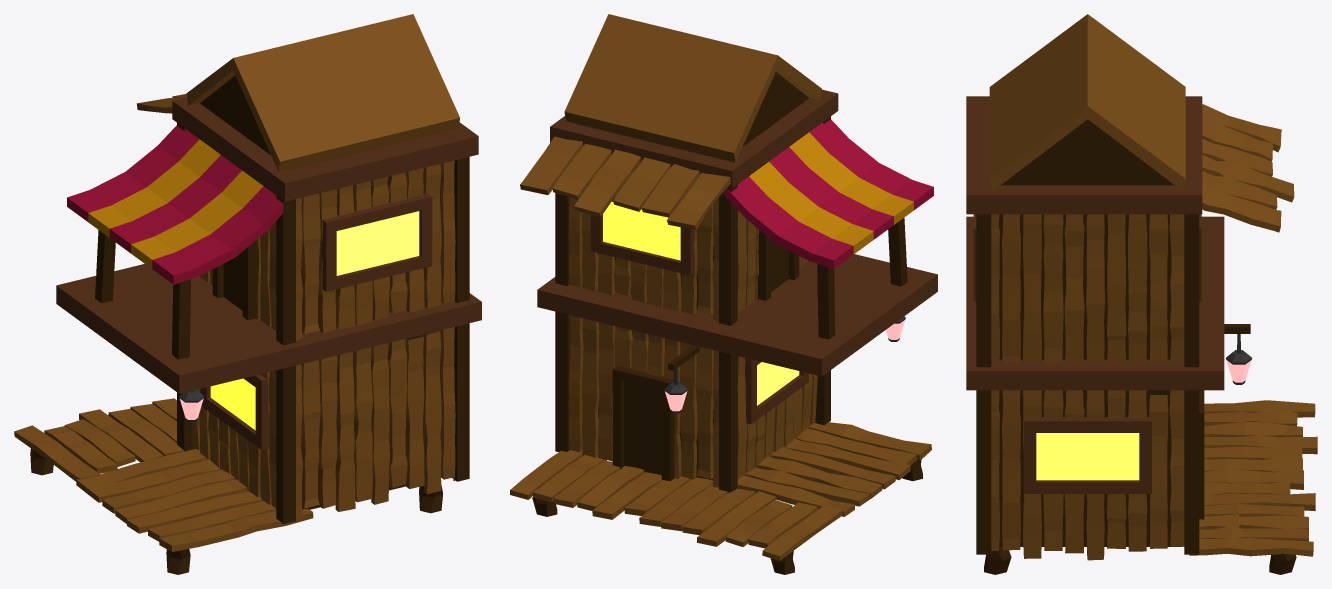
The model's file is Market1.fbx.
3 views of the same model, side by side, from view 1: azimuth 30°, elevation 25°; view 2: azimuth 150°, elevation 25°; view 3: azimuth 270°, elevation 25° (orthographic). The views are drawn at different scales.
Visible parts, largest first — view 1: Cube.361; view 2: Cube.361; view 3: Cube.361.
Boxes of the visible parts, left/top/right/bottom form: Cube.361: left=14, top=14, right=481, bottom=574; Cube.361: left=510, top=14, right=937, bottom=574; Cube.361: left=966, top=14, right=1317, bottom=574.
Size of the model in its own units: 3.94 by 5.56 by 3.71.
